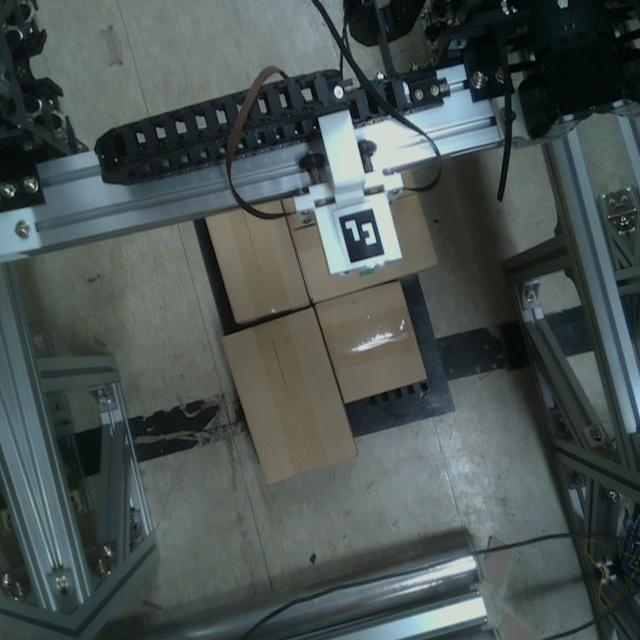box: (215, 303, 364, 490), (310, 275, 430, 406)
